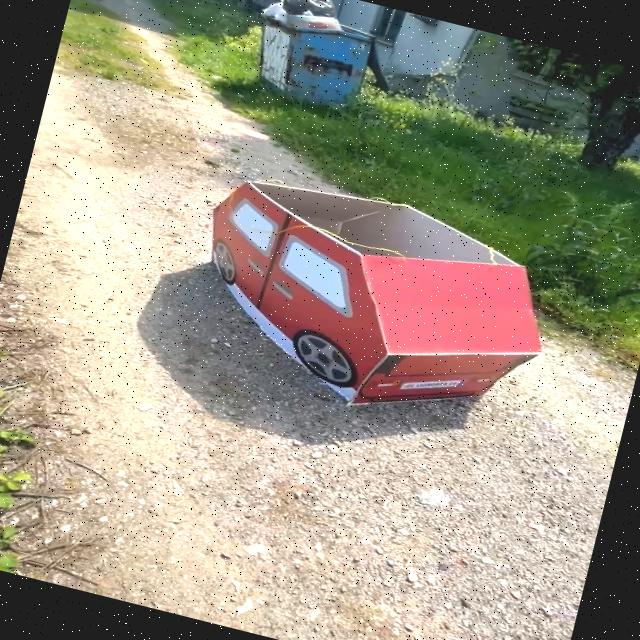red_car: (139, 127, 637, 479)
